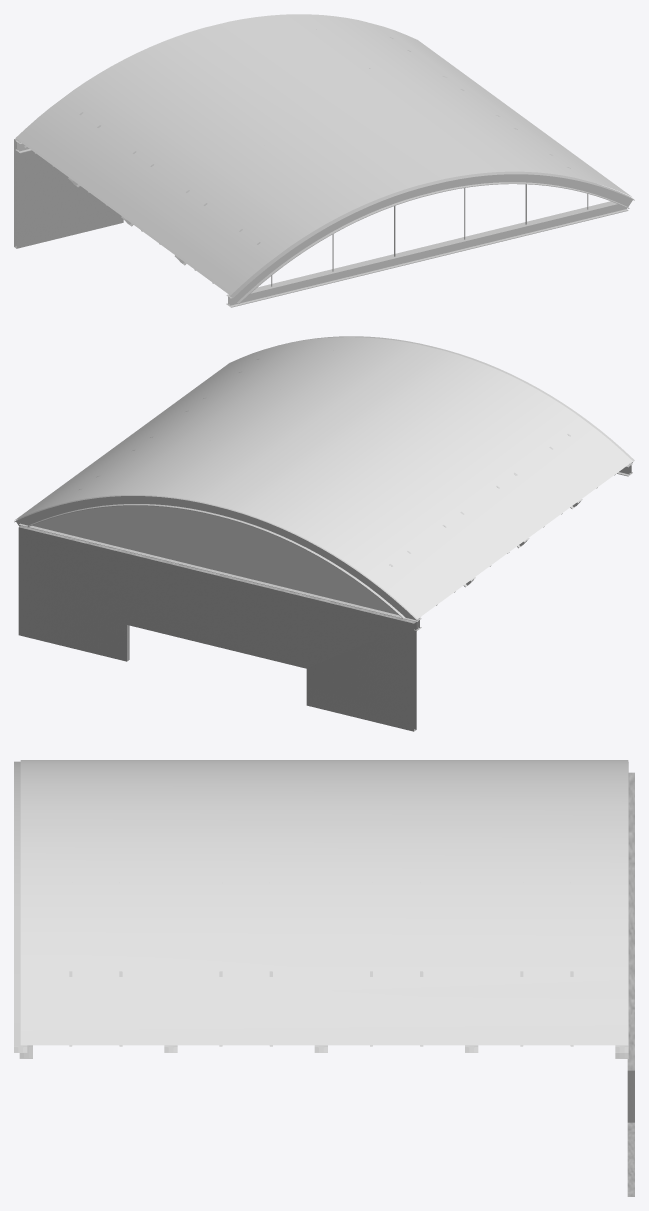
File: TechoparedHall_new.fbx
3 renders of one model, top to bottom at view 1: azimuth 30°, elevation 25°; view 2: azimuth 150°, elevation 25°; view 3: azimuth 270°, elevation 25°, orthographic. The views are drawn at different scales.
Visible parts, largest first — view 1: techoCurvo_suelto, InsideWallProto__5_; view 2: techoCurvo_suelto, InsideWallProto__5_; view 3: techoCurvo_suelto, InsideWallProto__5_.
Part boxes in pixels (x1,y1,x2,y2): techoCurvo_suelto: (15,14,634,307); InsideWallProto__5_: (14,139,123,248); techoCurvo_suelto: (14,336,634,631); InsideWallProto__5_: (18,525,416,731); techoCurvo_suelto: (14,760,628,1058); InsideWallProto__5_: (627,772,634,1196).
Bounding box in the file's own units: 8745 × 3632 × 8259.
